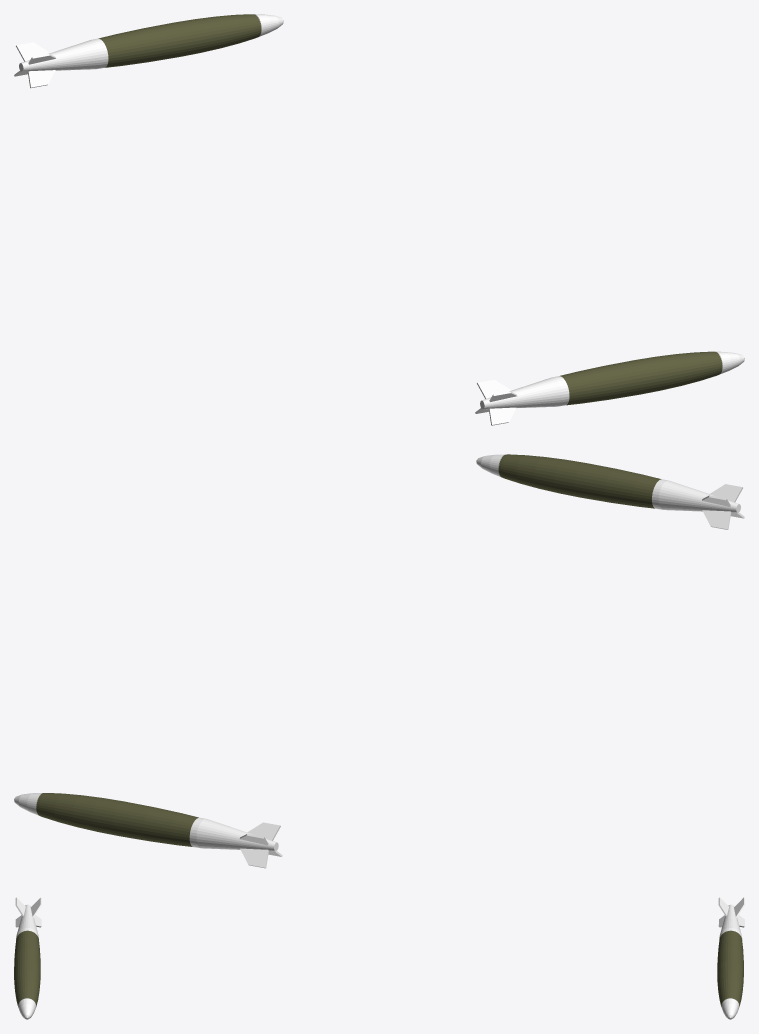
The model's file is f35bgbu3823.glb.
3 views of the same model, one above another, from view 1: azimuth 30°, elevation 25°; view 2: azimuth 150°, elevation 25°; view 3: azimuth 270°, elevation 25° (orthographic). The views are drawn at different scales.
Visible parts, largest first — view 1: 円柱.003, 円柱.004; view 2: 円柱.004, 円柱.003; view 3: 円柱.004, 円柱.003.
Part boxes in pixels (x1,y1,x2,y2): 円柱.003: (14, 14, 283, 88); 円柱.004: (475, 351, 744, 425); 円柱.004: (476, 454, 744, 529); 円柱.003: (14, 793, 282, 868); 円柱.004: (14, 897, 41, 1019); 円柱.003: (717, 897, 744, 1019).
Size of the model in its own units: 2.41 by 0.3732 by 7.63.
Materials: 3 (1 with a texture image).
